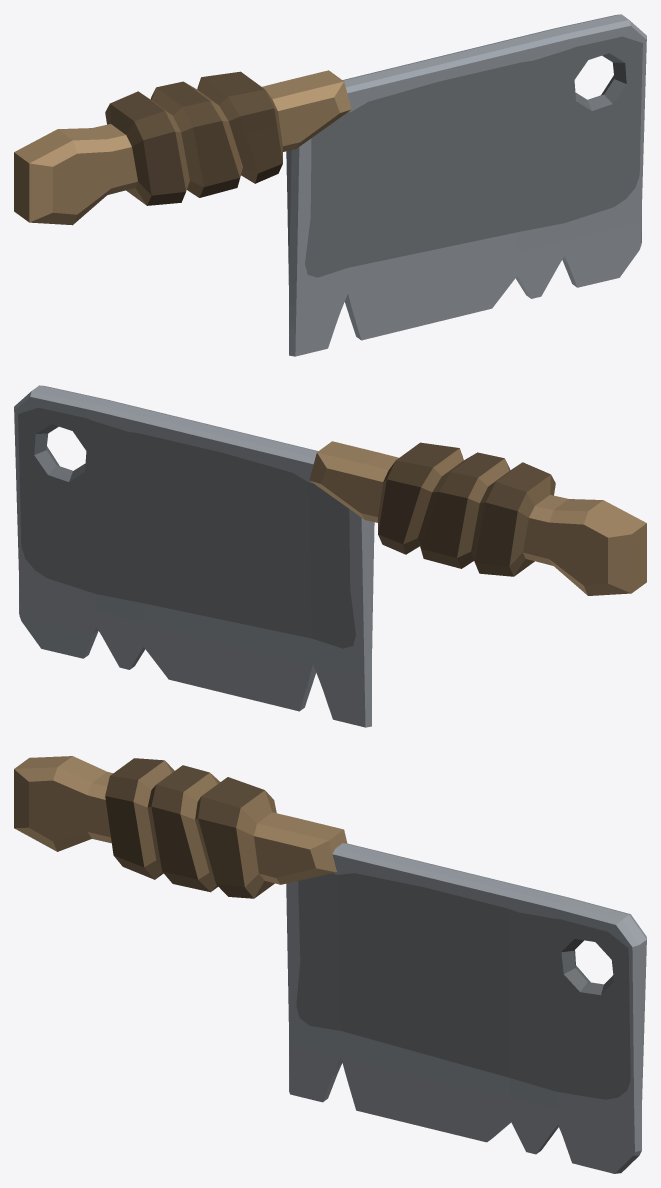
File: WF_LP_HT_Props_Chopper.001.fbx
3 renders of one model, top to bottom at view 1: azimuth 30°, elevation 25°; view 2: azimuth 150°, elevation 25°; view 3: azimuth 330°, elevation 25°, orthographic.
Visible parts, largest first — view 1: WF_LP_HT_Props_Chopper.001; view 2: WF_LP_HT_Props_Chopper.001; view 3: WF_LP_HT_Props_Chopper.001.
Part boxes in pixels (x1,y1,x2,y2): WF_LP_HT_Props_Chopper.001: (14, 14, 646, 356); WF_LP_HT_Props_Chopper.001: (14, 385, 646, 727); WF_LP_HT_Props_Chopper.001: (14, 756, 646, 1173).
Bounding box in the file's own units: 0.549 × 0.2434 × 0.0639.
